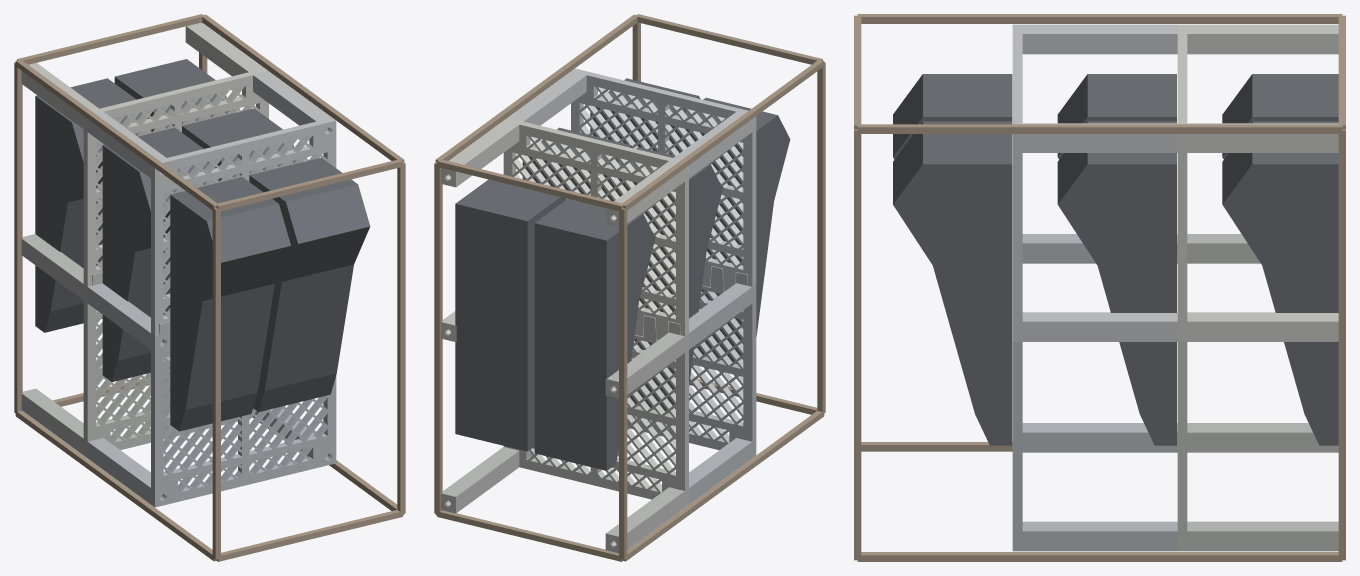
File: assembled_small_shoes.glb
The picture shows the model from 3 angles, left to right: view 1: azimuth 30°, elevation 25°; view 2: azimuth 150°, elevation 25°; view 3: azimuth 270°, elevation 25°; orthographic projection. The views are drawn at different scales.
Parts seen in each view (by area): view 1: cabinet, shoe_5, shoe_6, upper_back, upper_front, lower_front, shoe_3, shoe_1, lower_back, shoe_2, shoe_4; view 2: shoe_1, cabinet, shoe_2, lower_front, upper_front, lower_back, upper_back, shoe_5, shoe_3, shoe_6, shoe_4; view 3: shoe_6, cabinet, shoe_4, shoe_2, upper_front, lower_front, upper_back, lower_back, shoe_5, shoe_3, shoe_1.
Boxes of the visible parts, x1,y1,x2,y2 form: cabinet: [14, 14, 405, 561]; shoe_5: [170, 177, 290, 431]; shoe_6: [249, 157, 370, 411]; upper_back: [87, 283, 336, 507]; upper_front: [87, 71, 336, 335]; lower_front: [21, 22, 268, 286]; shoe_3: [102, 127, 219, 381]; shoe_1: [35, 78, 151, 332]; lower_back: [21, 234, 252, 457]; shoe_2: [114, 59, 229, 131]; shoe_4: [182, 108, 296, 181]; shoe_1: [534, 199, 655, 470]; cabinet: [434, 14, 825, 561]; shoe_2: [455, 179, 566, 451]; lower_front: [441, 118, 688, 341]; upper_front: [508, 68, 756, 290]; lower_back: [441, 315, 688, 553]; upper_back: [530, 266, 756, 504]; shoe_5: [669, 97, 790, 363]; shoe_3: [602, 147, 722, 413]; shoe_6: [590, 78, 700, 151]; shoe_4: [522, 127, 632, 194]; shoe_6: [893, 121, 1012, 445]; cabinet: [854, 14, 1345, 561]; shoe_4: [1057, 121, 1176, 445]; shoe_2: [1222, 121, 1338, 445]; upper_front: [1012, 24, 1177, 341]; lower_front: [1177, 24, 1338, 341]; upper_back: [1012, 234, 1177, 551]; lower_back: [1177, 234, 1338, 551]; shoe_5: [893, 74, 1012, 159]; shoe_3: [1057, 74, 1176, 159]; shoe_1: [1222, 74, 1338, 159].
Bounding box in the file's own units: 216 × 386 × 396.
